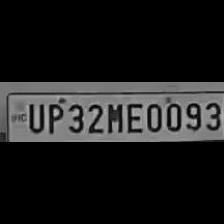0: (144, 100, 162, 132), (164, 100, 182, 132)
2: (84, 100, 104, 134)
3: (64, 100, 84, 134), (202, 98, 222, 132)
9: (183, 98, 201, 132)
E: (124, 100, 142, 134)
M: (104, 100, 124, 134)
P: (45, 100, 63, 134)
U: (24, 100, 44, 132)
